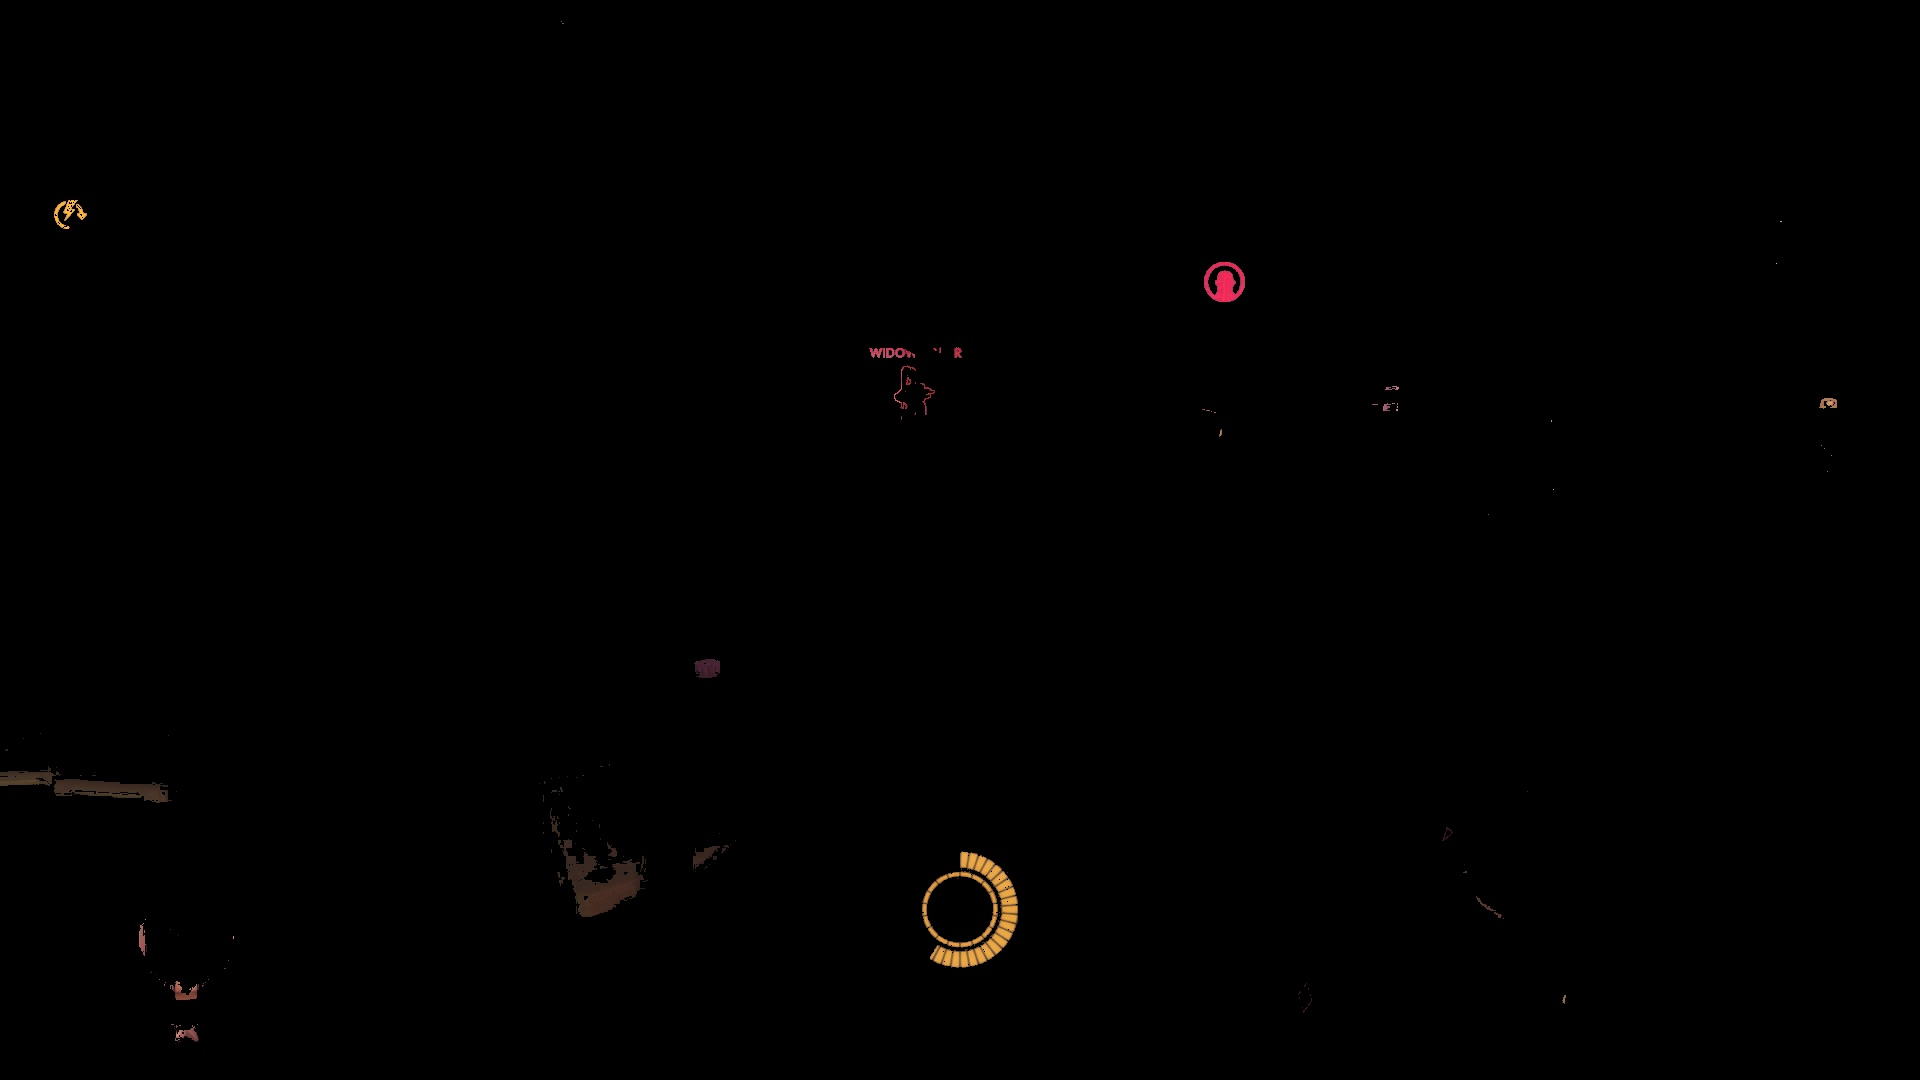widowmaker: (894, 365, 936, 419)
